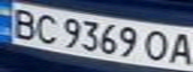3: (78, 18, 103, 53)
6: (96, 21, 121, 56)
9: (57, 15, 84, 51), (115, 24, 142, 60)
A: (166, 30, 193, 66)
B: (6, 6, 42, 40)
C: (30, 11, 63, 46)
O: (139, 28, 172, 62)
